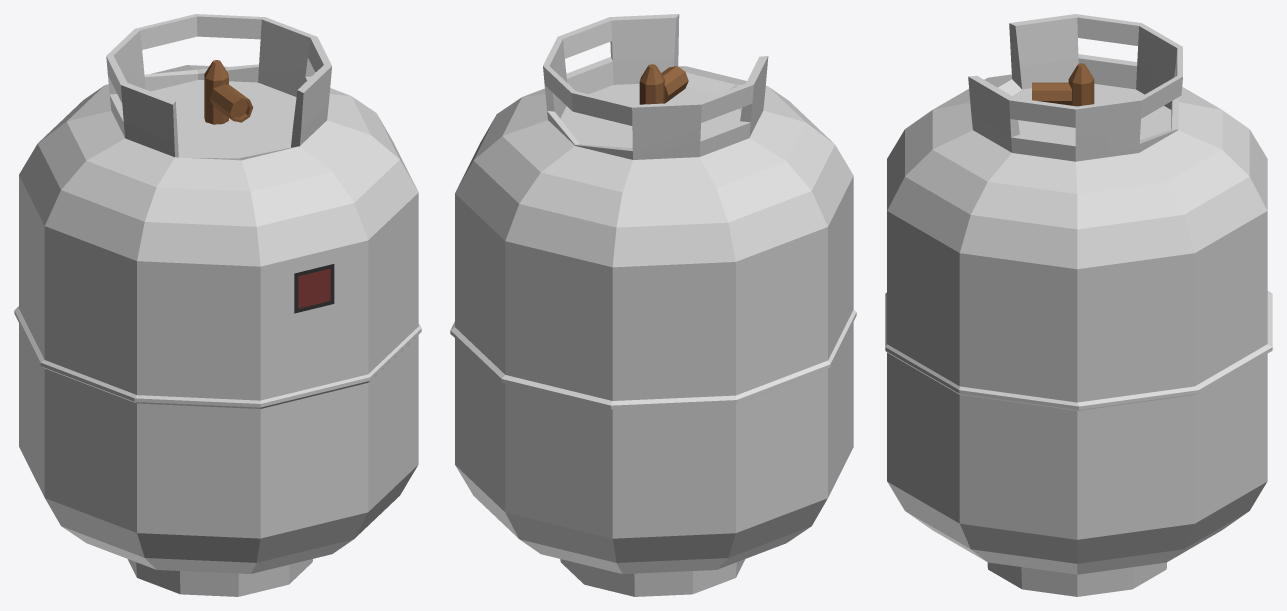
File: propanetank.glb
3 views of the same model, side by side, from view 1: azimuth 30°, elevation 25°; view 2: azimuth 150°, elevation 25°; view 3: azimuth 270°, elevation 25° (orthographic).
Parts seen in each view (by area): view 1: PropaneTank; view 2: PropaneTank; view 3: PropaneTank.
Part boxes in pixels (x1=…): PropaneTank: x1=14, y1=14, x2=421, y2=596; PropaneTank: x1=450, y1=14, x2=856, y2=596; PropaneTank: x1=885, y1=14, x2=1272, y2=596.
Size of the model in its own units: 2.16 by 2.89 by 2.05.
